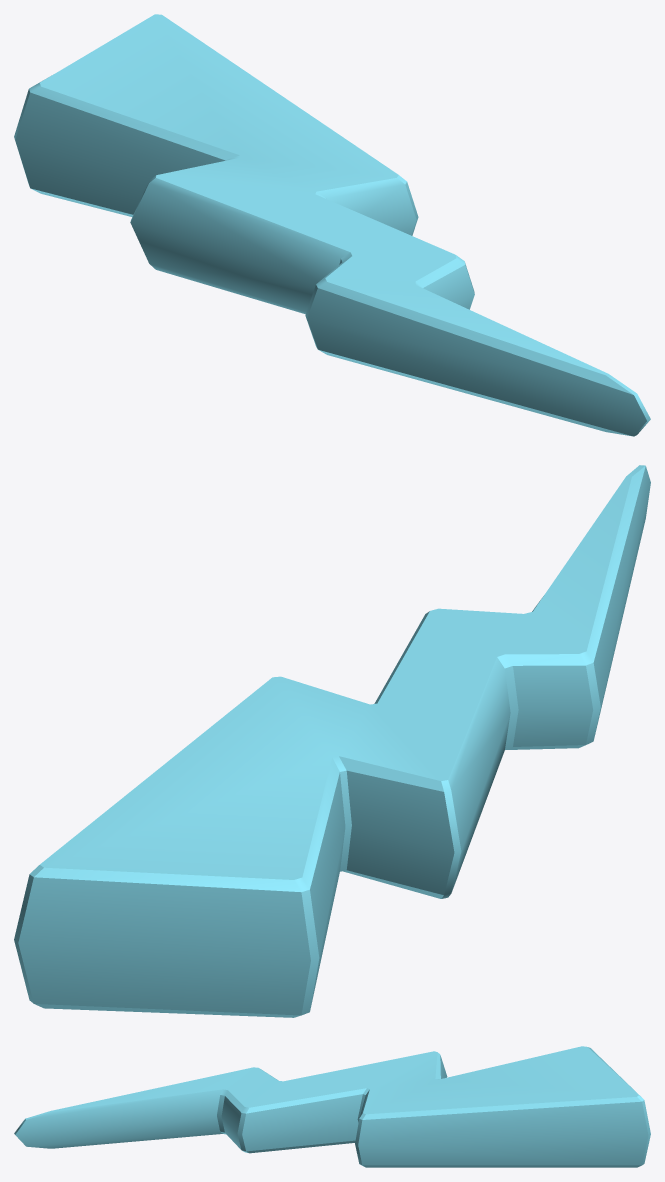
File: Thunder.fbx
3 views of the same model, one above another, from view 1: azimuth 30°, elevation 25°; view 2: azimuth 150°, elevation 25°; view 3: azimuth 270°, elevation 25° (orthographic). The views are drawn at different scales.
Visible parts, largest first — view 1: Thunder; view 2: Thunder; view 3: Thunder.
Boxes of the visible parts, x1,y1,x2,y2 form: Thunder: [14, 14, 650, 436]; Thunder: [14, 465, 650, 1017]; Thunder: [14, 1046, 650, 1167].
Bounding box in the file's own units: 3973 × 1866 × 15146.
